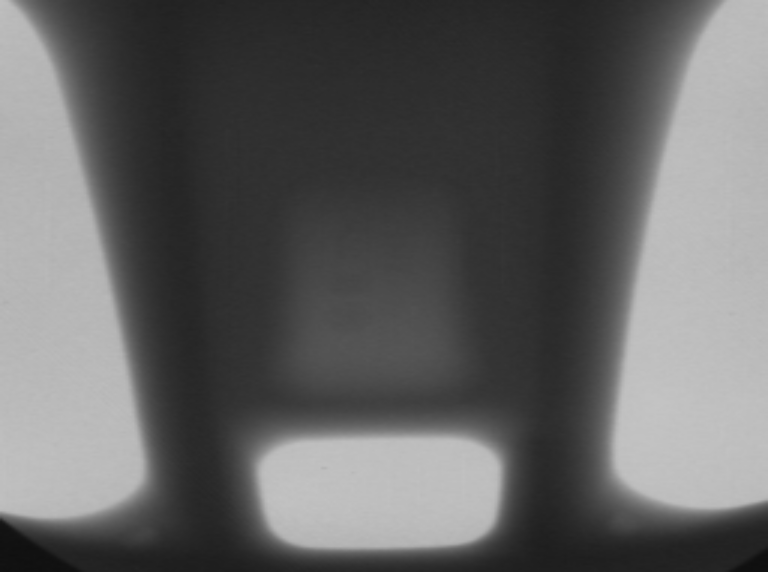defect: (588, 507, 660, 545)
